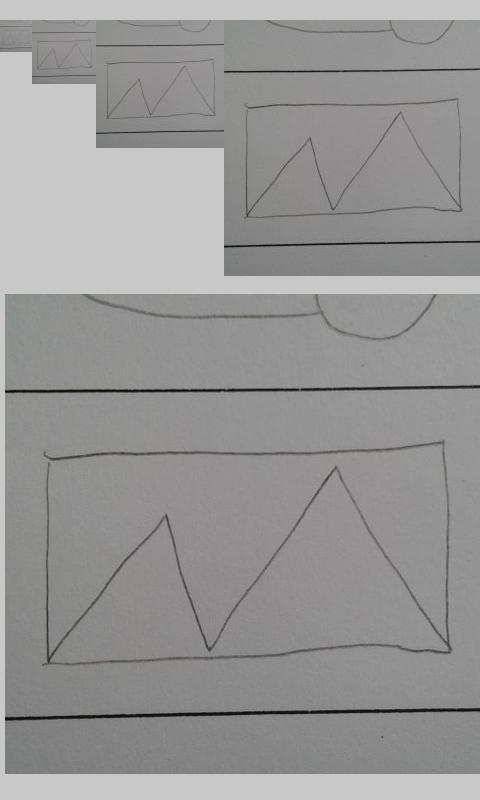image_view: (36, 436, 451, 668), (244, 98, 462, 220), (104, 58, 219, 121), (36, 40, 92, 70), (2, 29, 31, 45)
